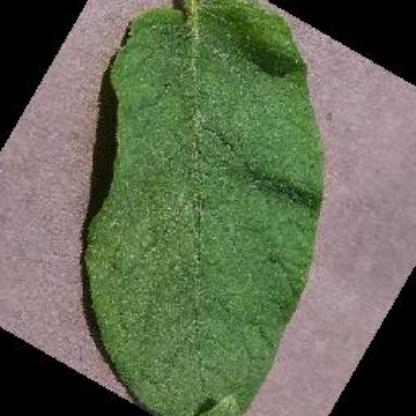Healthy-plant: (70, 0, 336, 416)
